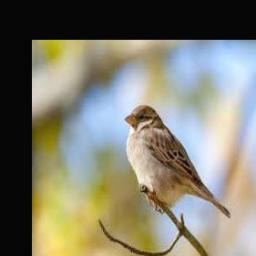Sparrow: (124, 104, 230, 221)
